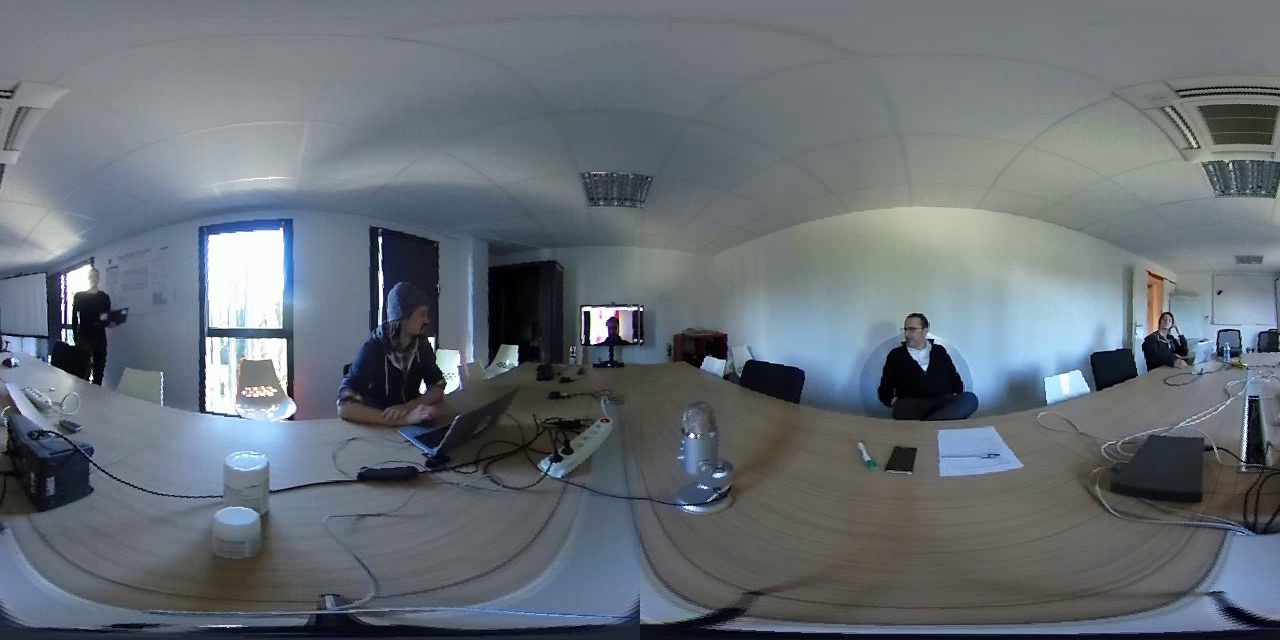person: (337, 273, 456, 419), (867, 291, 980, 434), (61, 259, 128, 377), (1137, 300, 1188, 373), (589, 300, 641, 344)
